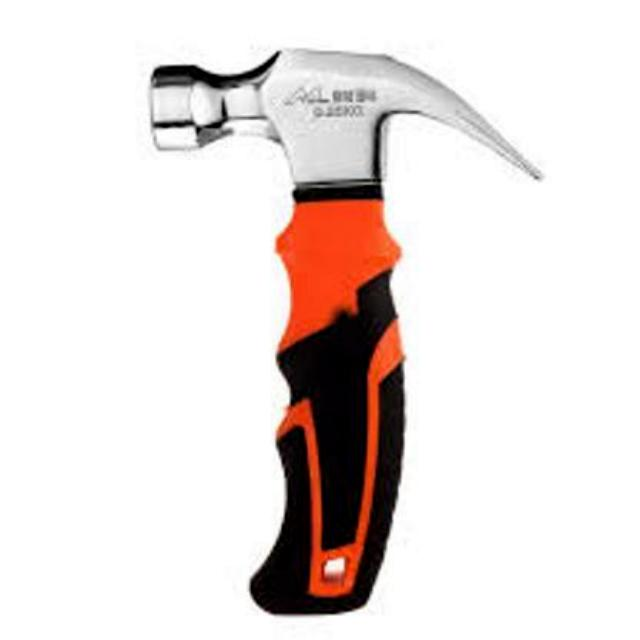hammer: (140, 40, 552, 640)
